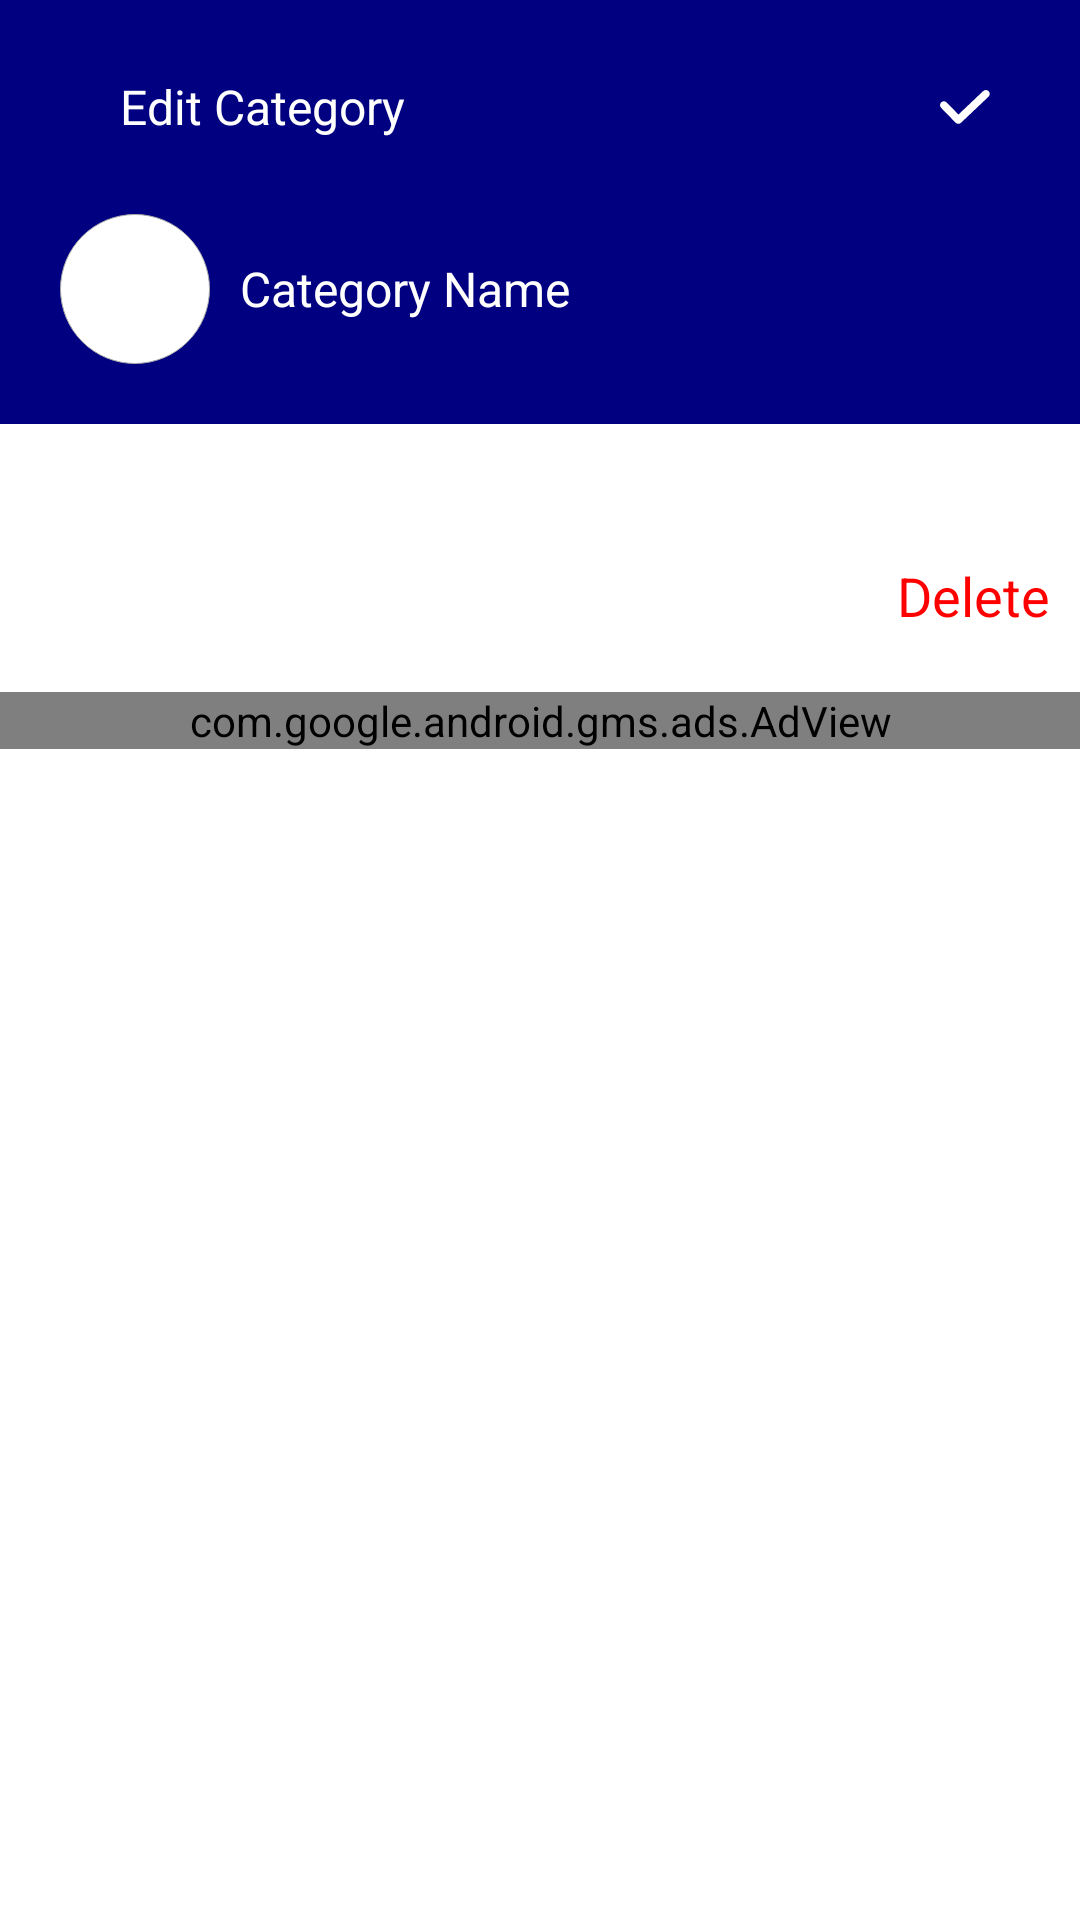

Locate icon controls on the screen. Image size 1080×1920, boxes as [x1, y1, x2, y2].
tick: [940, 90, 990, 124]
